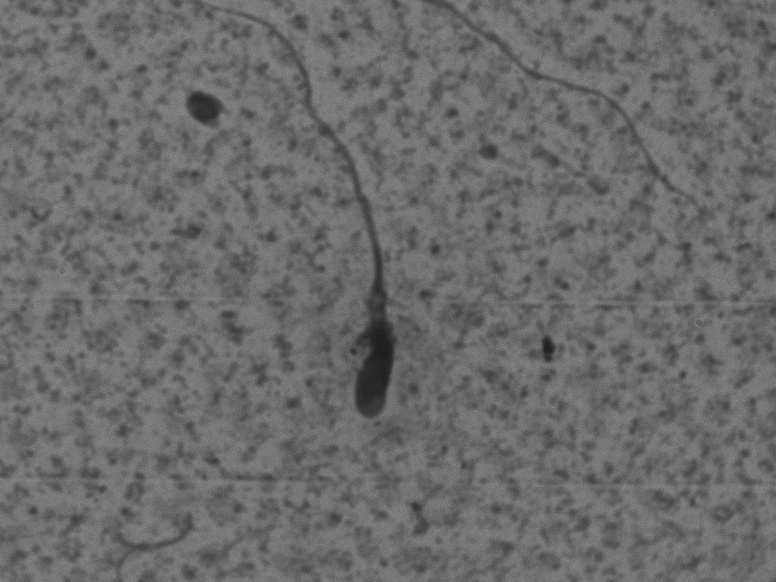Abnormal: (233, 7, 445, 456)
